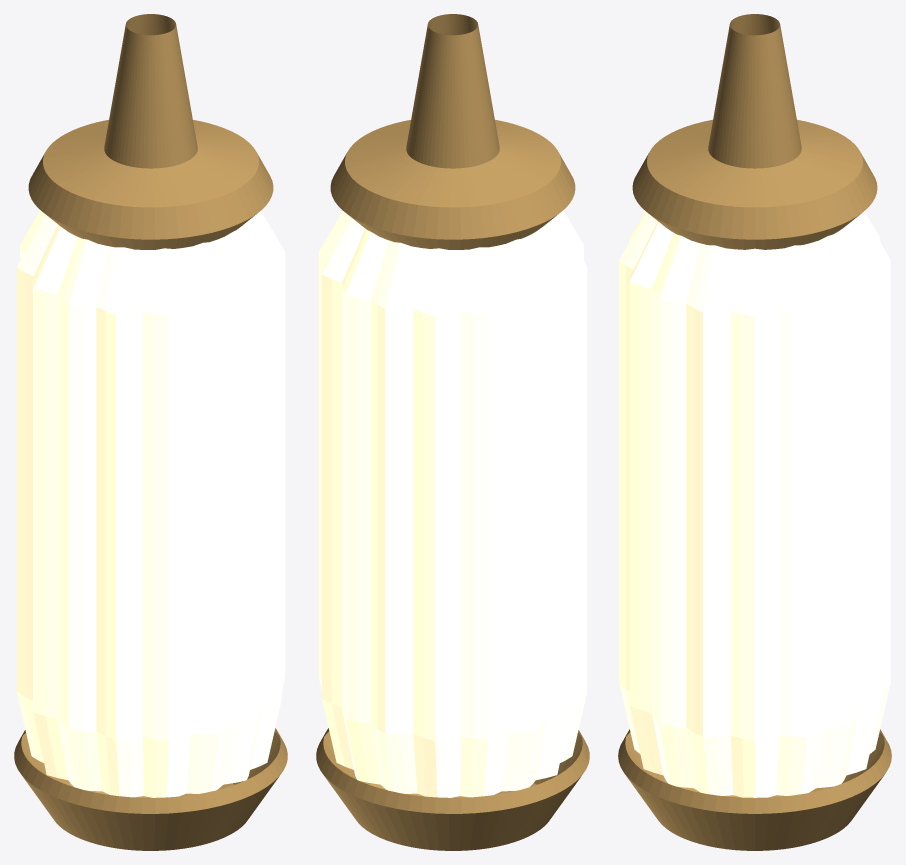
The model's file is alabaster-lantern.glb.
3 renders of one model, left to right at view 1: azimuth 30°, elevation 25°; view 2: azimuth 150°, elevation 25°; view 3: azimuth 270°, elevation 25°, orthographic.
Parts seen in each view (by area): view 1: Atelier lantern; view 2: Atelier lantern; view 3: Atelier lantern.
Boxes of the visible parts, left/top/right/bottom form: Atelier lantern: left=14, top=14, right=287, bottom=850; Atelier lantern: left=316, top=14, right=589, bottom=850; Atelier lantern: left=618, top=14, right=891, bottom=850.
Size of the model in its own units: 0.38 by 1.26 by 0.38.
